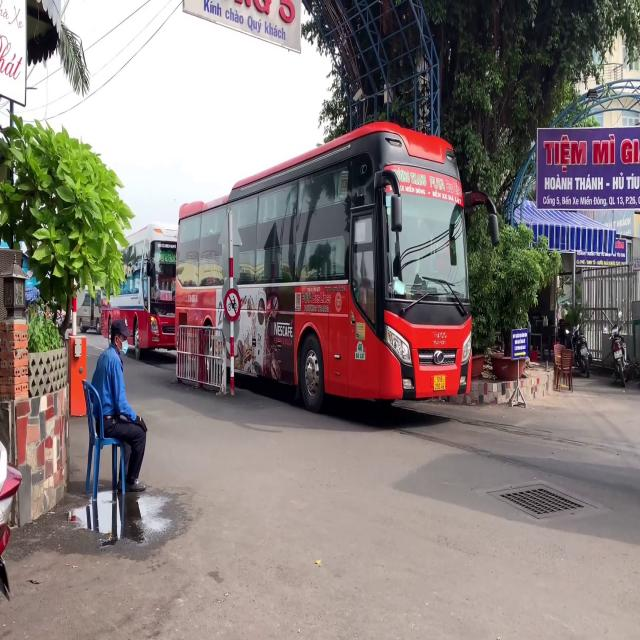bien_vang: (434, 374, 446, 392)
